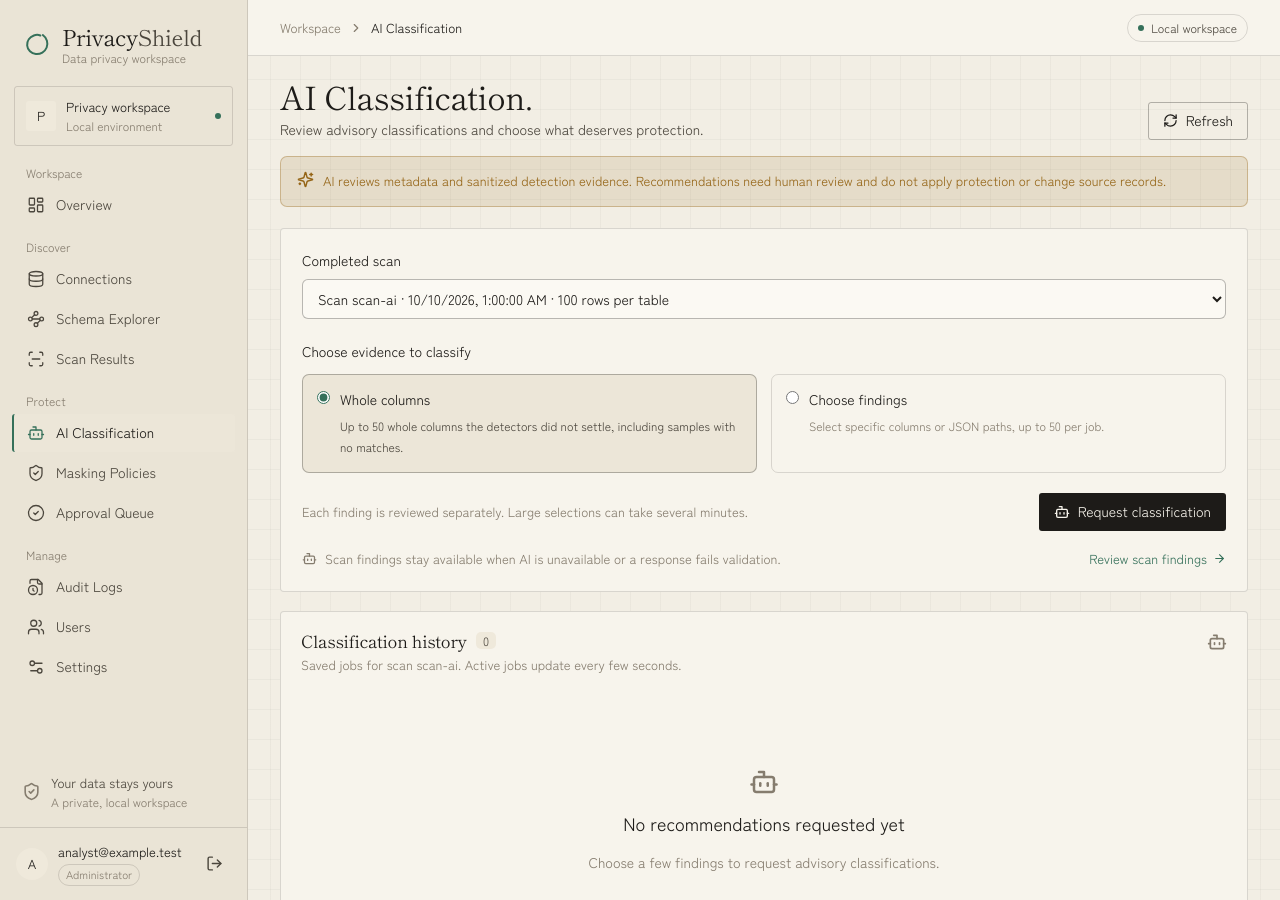
advisory AI classification › still starts a default request when the counts cannot be loaded
The width and height of the screenshot is (1280, 900).
Step 1. Click the button "Request classification" → [1132, 512], box [1039,493,1226,531]
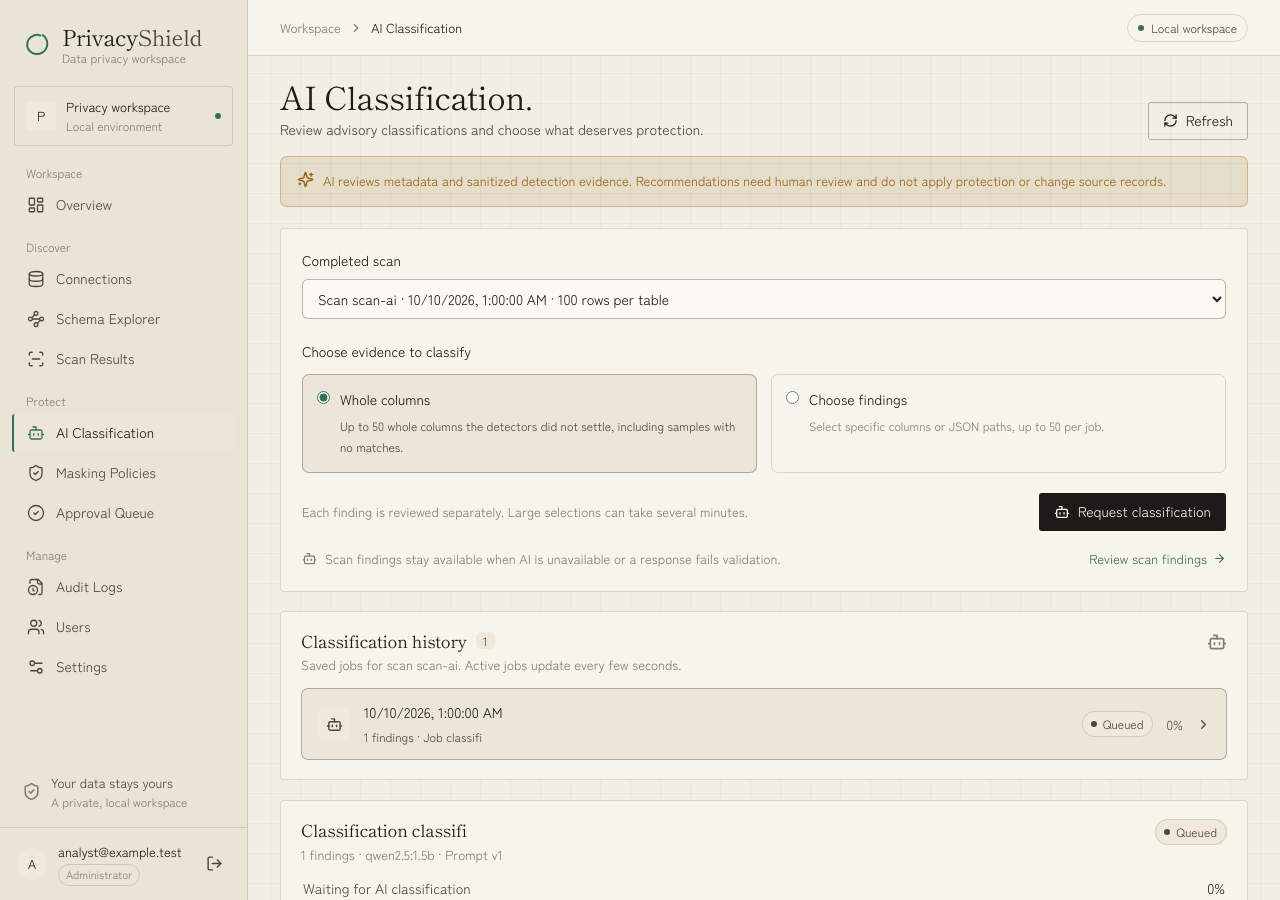
Check: the text "Waiting for AI classification" is shown, box [303,878,471,899]
